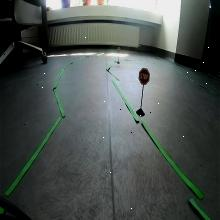stop: (138, 68, 150, 85)
